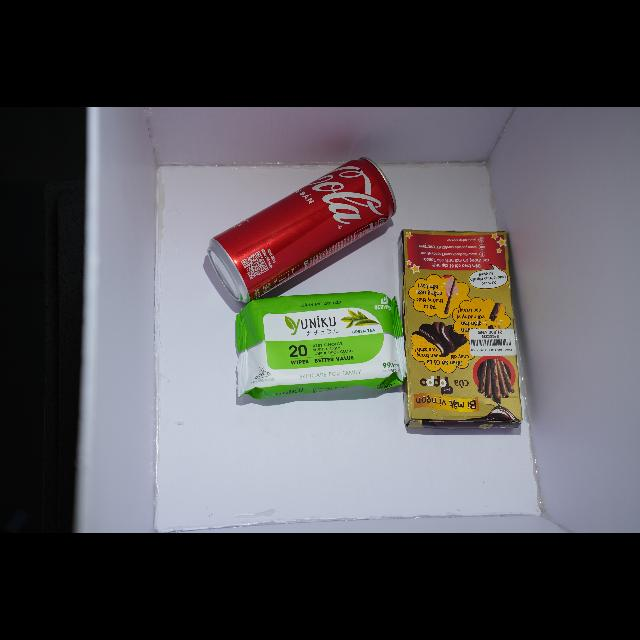banh_toppo_socola: (402, 230, 523, 429)
coca_cola: (208, 159, 396, 303)
khan_giay: (236, 292, 405, 399)
